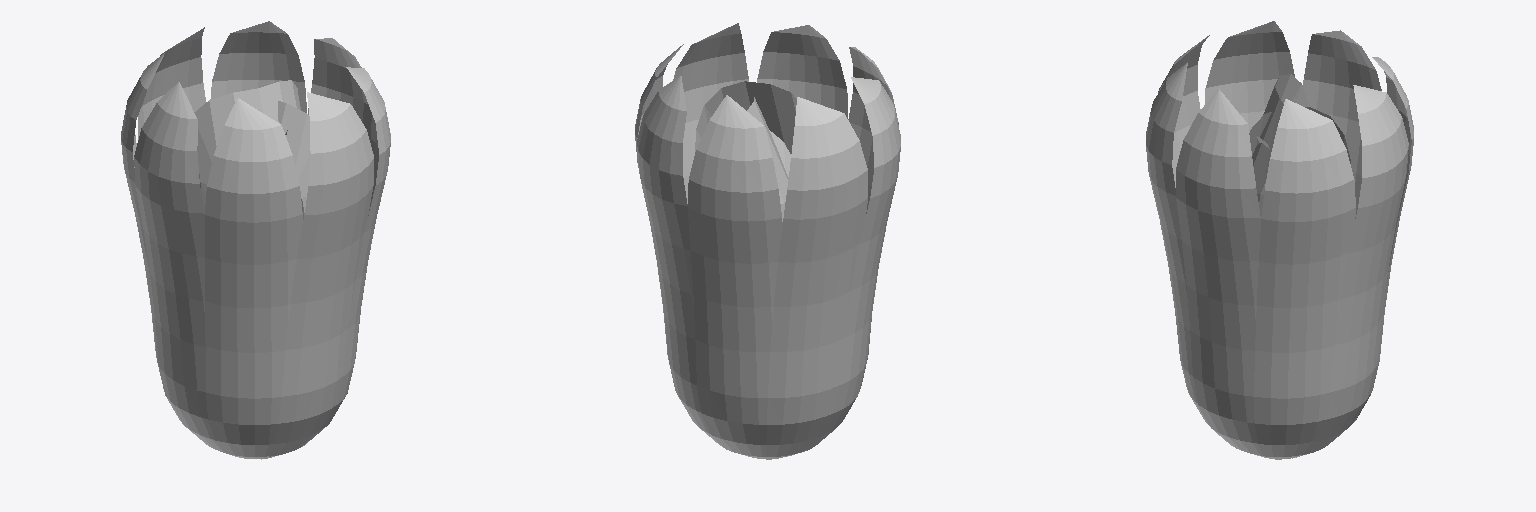
File: FlowerTopModel_03_seq_0016.obj
3 renders of one model, left to right at view 1: azimuth 30°, elevation 25°; view 2: azimuth 150°, elevation 25°; view 3: azimuth 270°, elevation 25°, orthographic.
Parts seen in each view (by area): view 1: FlowerTopModel_03; view 2: FlowerTopModel_03; view 3: FlowerTopModel_03.
Part boxes in pixels (x1,y1,x2,y2): FlowerTopModel_03: (121, 21, 390, 459); FlowerTopModel_03: (635, 23, 900, 459); FlowerTopModel_03: (1146, 21, 1413, 459).
Size of the model in its own units: 224 by 361 by 224.